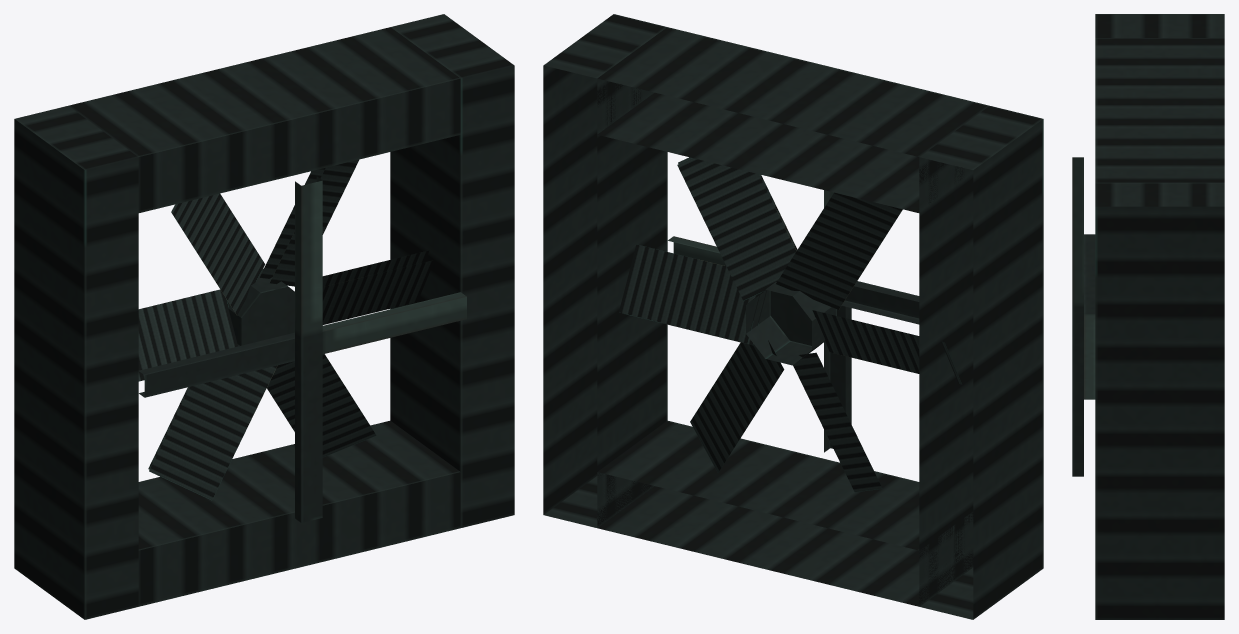
The model's file is SM_MachProp_Duct_Fan_120x120x40.fbx.
3 renders of one model, left to right at view 1: azimuth 30°, elevation 25°; view 2: azimuth 150°, elevation 25°; view 3: azimuth 270°, elevation 25°, orthographic. The views are drawn at different scales.
Visible parts, largest first — view 1: SM_MachProp_Duct_Fan_120x120x40.001; view 2: SM_MachProp_Duct_Fan_120x120x40.001; view 3: SM_MachProp_Duct_Fan_120x120x40.001.
Boxes of the visible parts, <box> form: SM_MachProp_Duct_Fan_120x120x40.001: <box>14,14,514,619</box>; SM_MachProp_Duct_Fan_120x120x40.001: <box>543,14,1043,619</box>; SM_MachProp_Duct_Fan_120x120x40.001: <box>1072,14,1224,619</box>.
Size of the model in its own units: 1.2 by 1.2 by 0.4.
